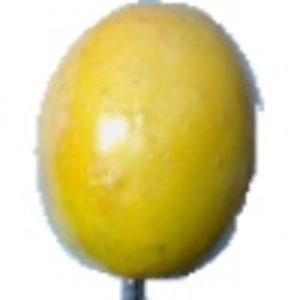maracujá: (35, 1, 266, 300)
